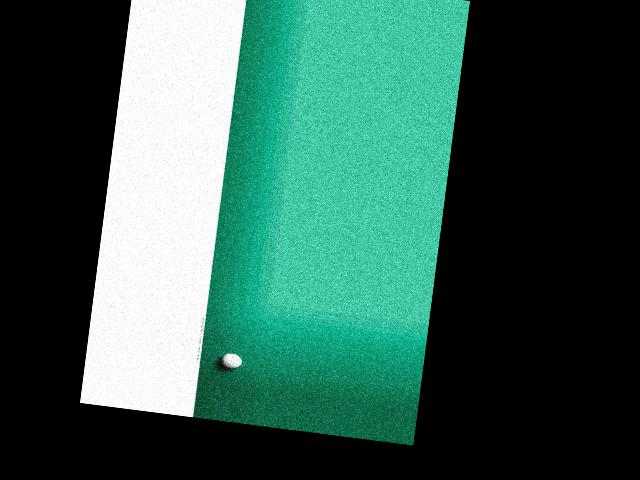egg: (220, 351, 242, 368)
